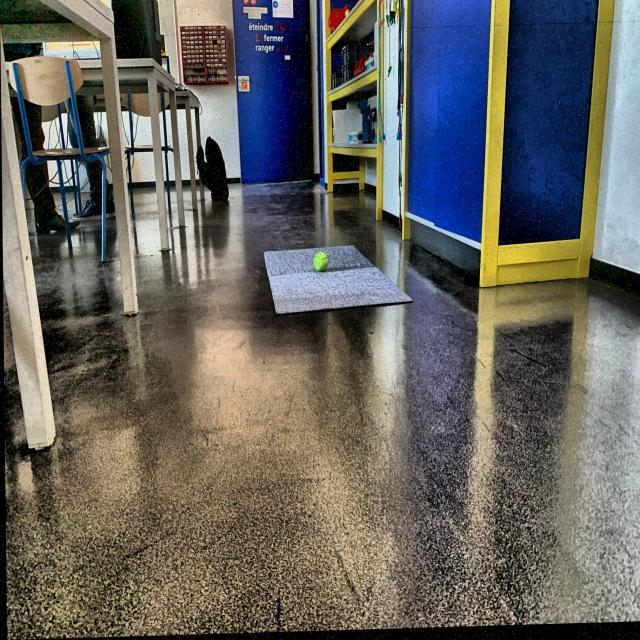tennis-ball: (313, 253, 328, 277)
